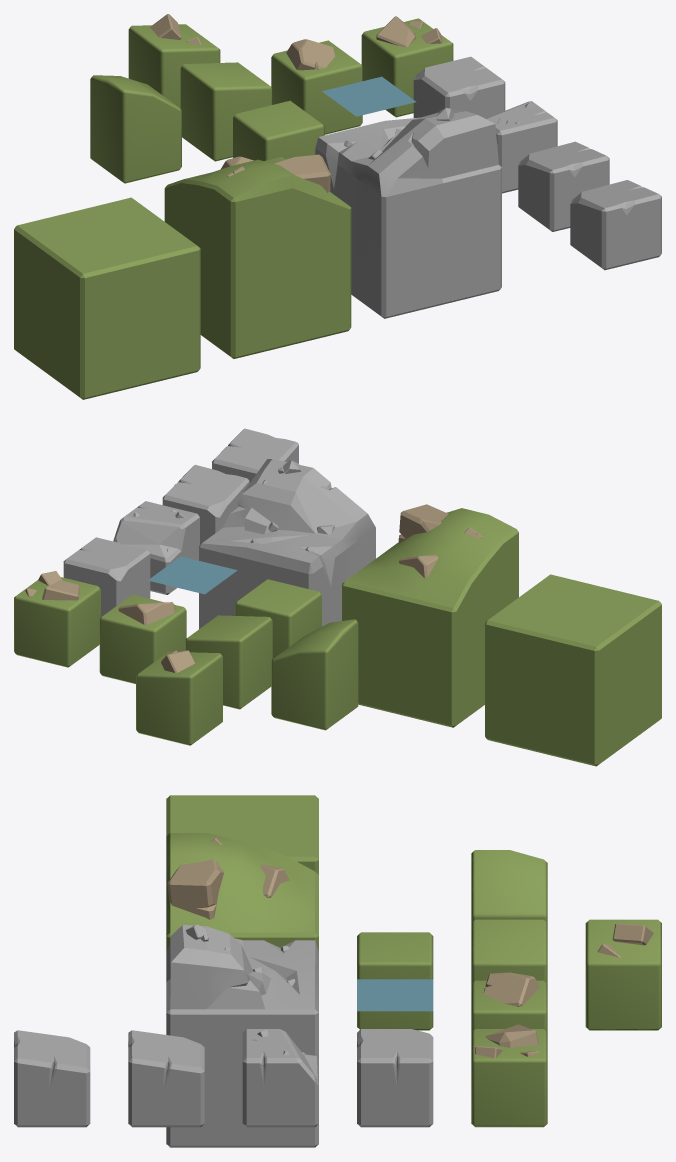
The model's file is Bloc_Set_Sam.fbx.
3 views of the same model, one above another, from view 1: azimuth 30°, elevation 25°; view 2: azimuth 150°, elevation 25°; view 3: azimuth 270°, elevation 25° (orthographic). The views are drawn at different scales.
Visible parts, largest first — view 1: Bloc_Water2, Bloc_StoneC2, Bloc_Water1, Bloc_HerbeB1, Bloc_StoneB1, Bloc_HerbeB, Bloc_HerbeStoneB, Bloc_StoneB, Bloc_HerbeStoneC, Bloc_HerbeStoneA, Bloc_StoneA, Bloc_HerbeA (+2 smaller); view 2: Bloc_Water1, Bloc_Water2, Bloc_StoneC2, Bloc_HerbeB1, Bloc_HerbeStoneA, Bloc_HerbeStoneC, Bloc_HerbeStoneB, Bloc_HerbeB, Bloc_StoneC, Bloc_StoneA, Bloc_HerbeA, Bloc_StoneB (+2 smaller); view 3: Bloc_StoneC2, Bloc_Water1, Bloc_HerbeStoneA, Bloc_Water2, Bloc_HerbeStoneC, Bloc_StoneA, Bloc_StoneB, Bloc_StoneB1, Bloc_StoneC, Bloc_HerbeB1, Bloc_HerbeA, Bloc_HerbeB (+2 smaller).
Part boxes in pixels (x1=…): Bloc_Water2: x1=14, y1=197, x2=200, y2=399; Bloc_StoneC2: x1=315, y1=108, x2=501, y2=318; Bloc_Water1: x1=164, y1=154, x2=351, y2=358; Bloc_HerbeB1: x1=90, y1=75, x2=181, y2=183; Bloc_StoneB1: x1=570, y1=180, x2=661, y2=270; Bloc_HerbeB: x1=180, y1=62, x2=272, y2=161; Bloc_HerbeStoneB: x1=271, y1=39, x2=362, y2=134; Bloc_StoneB: x1=518, y1=141, x2=609, y2=231; Bloc_HerbeStoneC: x1=361, y1=16, x2=453, y2=117; Bloc_HerbeStoneA: x1=128, y1=14, x2=220, y2=108; Bloc_StoneA: x1=413, y1=56, x2=505, y2=118; Bloc_HerbeA: x1=233, y1=100, x2=324, y2=160; Bloc_Water1: x1=342, y1=504, x2=518, y2=727; Bloc_Water2: x1=485, y1=574, x2=661, y2=766; Bloc_StoneC2: x1=199, y1=459, x2=375, y2=628; Bloc_HerbeB1: x1=271, y1=619, x2=358, y2=730; Bloc_HerbeStoneA: x1=136, y1=650, x2=222, y2=745; Bloc_HerbeStoneC: x1=14, y1=571, x2=100, y2=667; Bloc_HerbeStoneB: x1=99, y1=594, x2=186, y2=683; Bloc_HerbeB: x1=185, y1=615, x2=272, y2=709; Bloc_StoneC: x1=113, y1=501, x2=199, y2=594; Bloc_StoneA: x1=63, y1=537, x2=150, y2=617; Bloc_HerbeA: x1=235, y1=579, x2=321, y2=658; Bloc_StoneB: x1=162, y1=464, x2=249, y2=544; Bloc_StoneC2: x1=166, y1=924, x2=318, y2=1147; Bloc_Water1: x1=166, y1=833, x2=318, y2=951; Bloc_HerbeStoneA: x1=585, y1=919, x2=661, y2=1030; Bloc_Water2: x1=166, y1=795, x2=318, y2=874; Bloc_HerbeStoneC: x1=471, y1=1024, x2=547, y2=1127; Bloc_StoneA: x1=357, y1=1029, x2=433, y2=1127; Bloc_StoneB: x1=128, y1=1030, x2=204, y2=1127; Bloc_StoneB1: x1=14, y1=1030, x2=90, y2=1127; Bloc_StoneC: x1=242, y1=1029, x2=318, y2=1127; Bloc_HerbeB1: x1=471, y1=850, x2=547, y2=922; Bloc_HerbeA: x1=357, y1=932, x2=433, y2=1030; Bloc_HerbeB: x1=471, y1=919, x2=547, y2=983.
Size of the model in its own units: 850 by 304 by 850.
